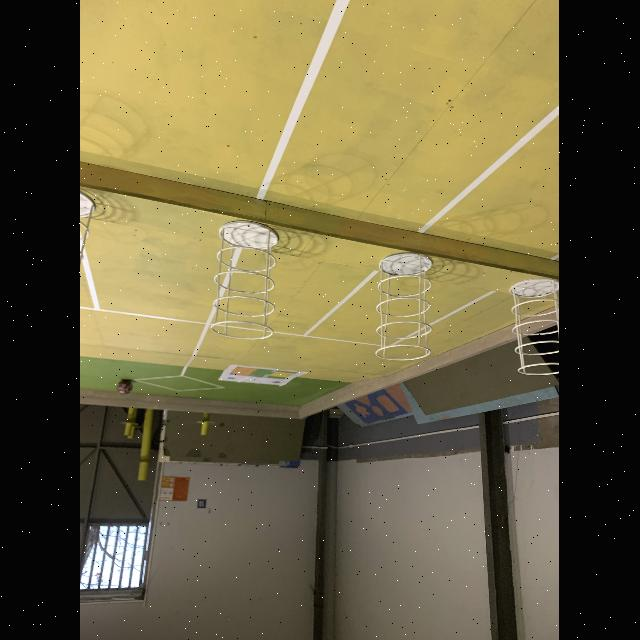S: (209, 220, 279, 340), (374, 252, 434, 361), (510, 276, 560, 376), (80, 187, 96, 293)
